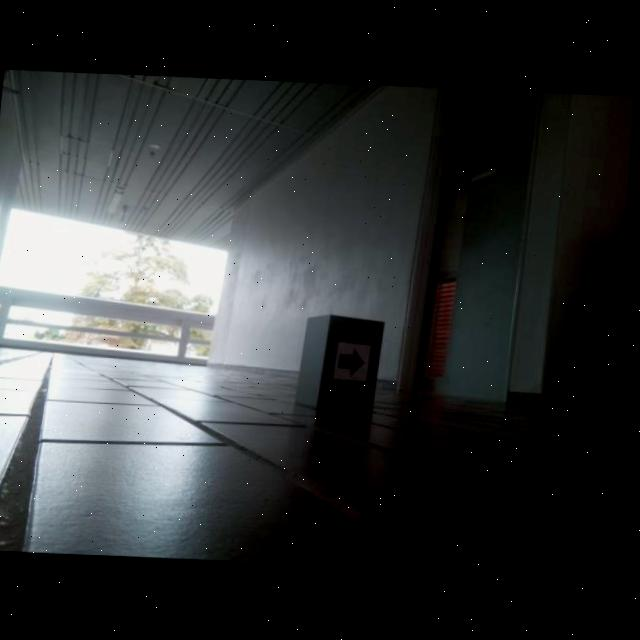RIGHT: (342, 346, 371, 376)
